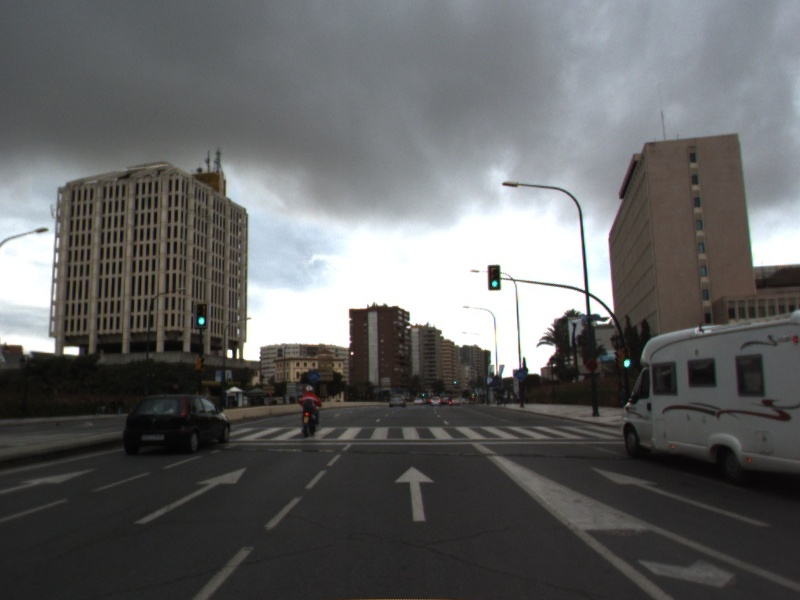STRAIGHT: (588, 464, 774, 529), (130, 465, 249, 526), (1, 465, 100, 495), (391, 463, 438, 523)
